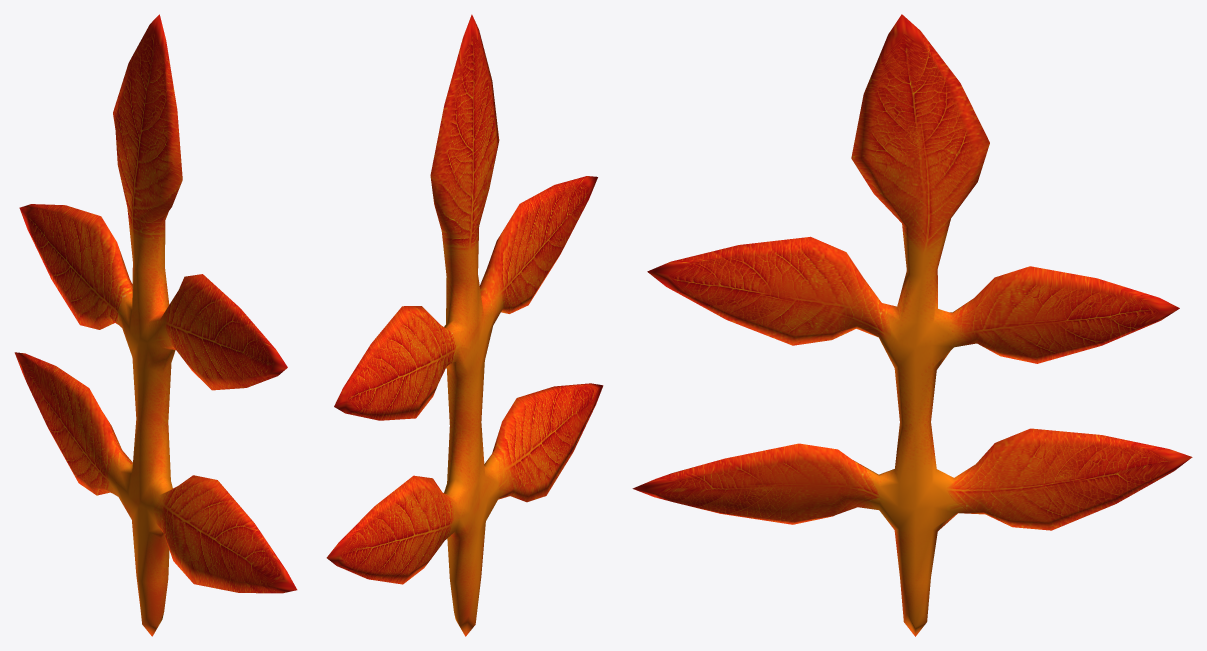
The model's file is Herb.fbx.
3 views of the same model, side by side, from view 1: azimuth 30°, elevation 25°; view 2: azimuth 150°, elevation 25°; view 3: azimuth 270°, elevation 25° (orthographic).
Visible parts, largest first — view 1: Herb; view 2: Herb; view 3: Herb.
Boxes of the visible parts, x1=… form: Herb: x1=14, y1=14, x2=297, y2=636; Herb: x1=326, y1=14, x2=603, y2=636; Herb: x1=632, y1=14, x2=1192, y2=636.
Size of the model in its own units: 3.42 by 54.9 by 44.75.
Materials: 1 (1 with a texture image).
